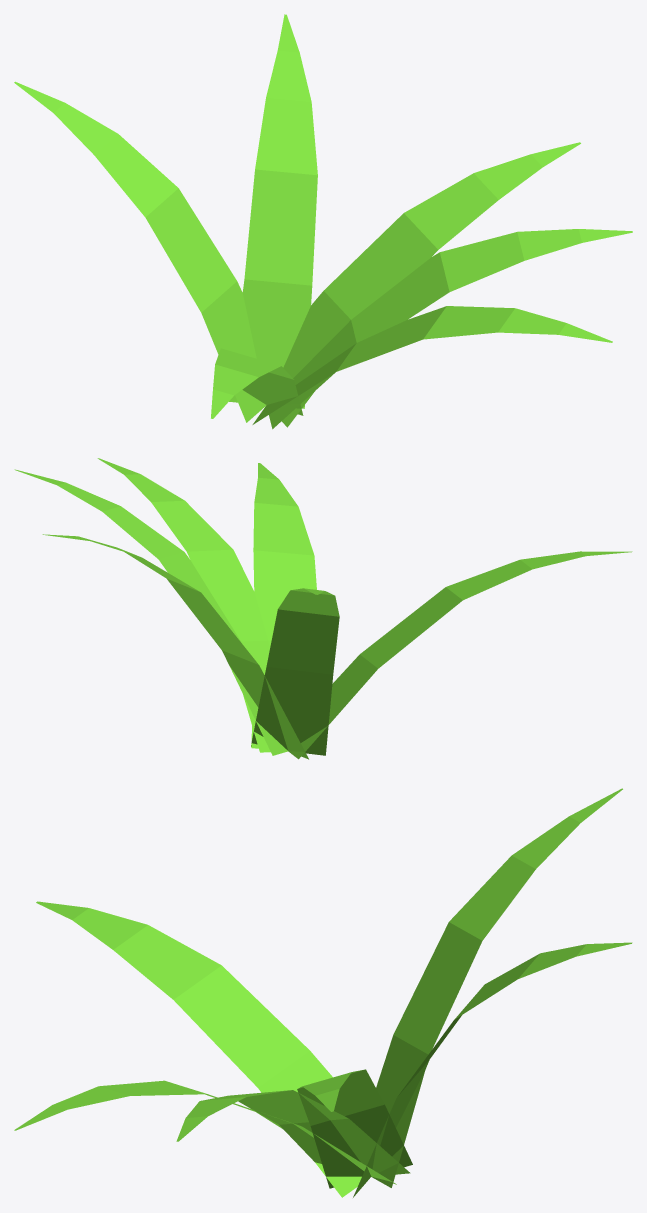
Rendered from grass-004.glb.
The picture shows the model from 3 angles, top to bottom: view 1: azimuth 30°, elevation 25°; view 2: azimuth 150°, elevation 25°; view 3: azimuth 270°, elevation 25°; orthographic projection. The views are drawn at different scales.
Parts seen in each view (by area): view 1: grass 5_56; view 2: grass 5_56; view 3: grass 5_56.
Boxes of the visible parts, <box> form: grass 5_56: <box>14,14,632,429</box>; grass 5_56: <box>14,458,632,759</box>; grass 5_56: <box>14,788,632,1197</box>.
Bounding box in the file's own units: 0.7604 × 0.414 × 0.7221.
